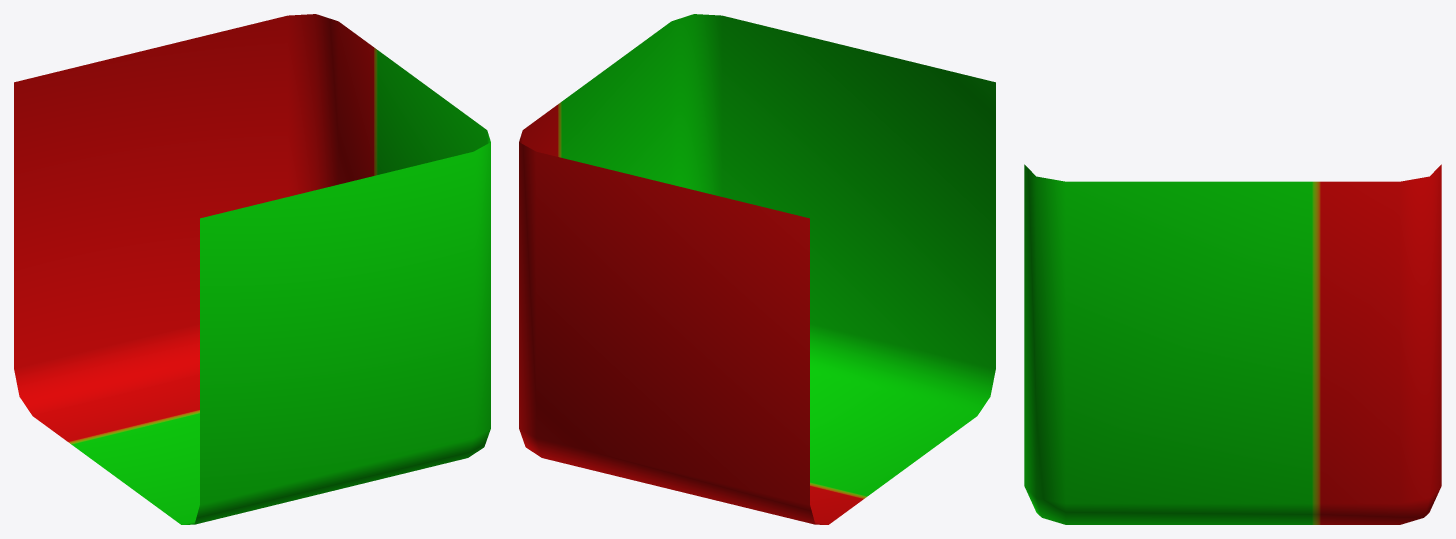
Rendered from Grass-I__.fbx.
The picture shows the model from 3 angles, left to right: view 1: azimuth 30°, elevation 25°; view 2: azimuth 150°, elevation 25°; view 3: azimuth 270°, elevation 25°; orthographic projection. The views are drawn at different scales.
Parts seen in each view (by area): view 1: Grass-I__; view 2: Grass-I__; view 3: Grass-I__.
Boxes of the visible parts, bbox=[...] form: Grass-I__: bbox=[14, 14, 490, 524]; Grass-I__: bbox=[519, 14, 995, 524]; Grass-I__: bbox=[1024, 164, 1441, 524].
Size of the model in its own units: 95 by 100 by 95.
